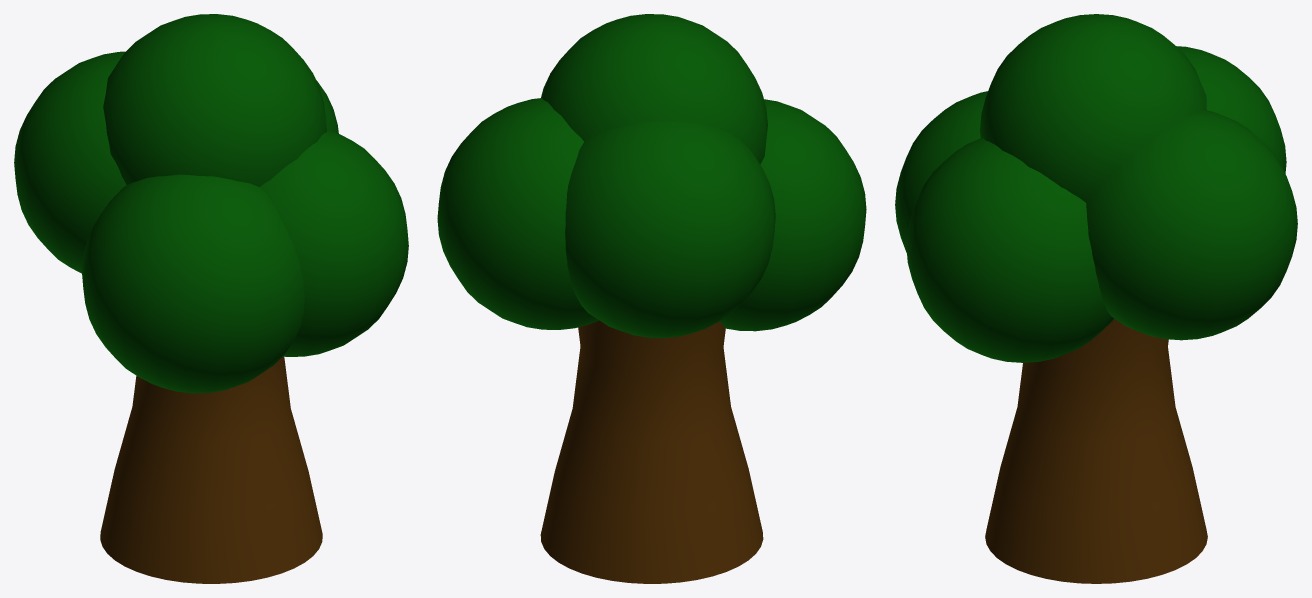
The model's file is BreadBaron_Tree1.fbx.
3 views of the same model, side by side, from view 1: azimuth 30°, elevation 25°; view 2: azimuth 150°, elevation 25°; view 3: azimuth 270°, elevation 25° (orthographic).
Visible parts, largest first — view 1: pSphere3, pCylinder1, pSphere6, pSphere1, pSphere5; view 2: pCylinder1, pSphere5, pSphere4, pSphere6, pSphere3; view 3: pCylinder1, pSphere4, pSphere1, pSphere6, pSphere3, pSphere5.
Part boxes in pixels (<box>): pSphere3: <box>82,174,304,393</box>; pCylinder1: <box>100,356,322,583</box>; pSphere6: <box>103,14,326,186</box>; pSphere1: <box>260,129,408,356</box>; pSphere5: <box>14,51,126,273</box>; pCylinder1: <box>540,320,763,583</box>; pSphere5: <box>565,121,775,337</box>; pSphere4: <box>437,98,599,329</box>; pSphere6: <box>541,14,767,164</box>; pSphere3: <box>720,99,866,331</box>; pCylinder1: <box>985,318,1207,583</box>; pSphere4: <box>1086,110,1297,340</box>; pSphere1: <box>906,138,1113,362</box>; pSphere6: <box>980,14,1206,202</box>; pSphere3: <box>895,91,987,252</box>; pSphere5: <box>1176,46,1286,173</box>.
Size of the model in its own units: 3.11 by 4.85 by 3.46.
